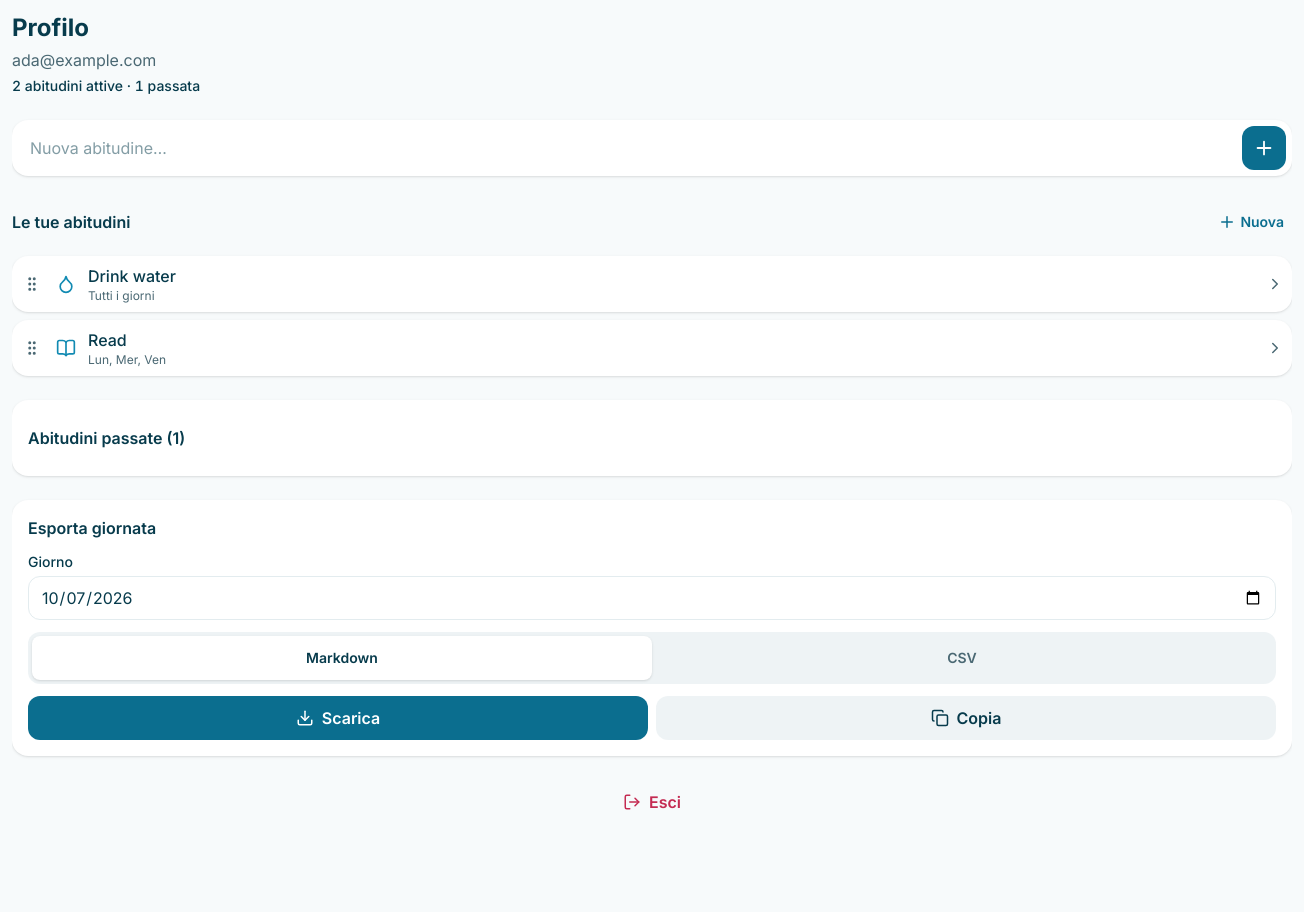
Test case: ProfilePage › inserimento rapido con valori di default
Type "  Journal " into the field labelled "Nuova abitudine".
click(626, 148); type("  Journal ")  # box [18, 126, 1234, 170]
Then press Enter
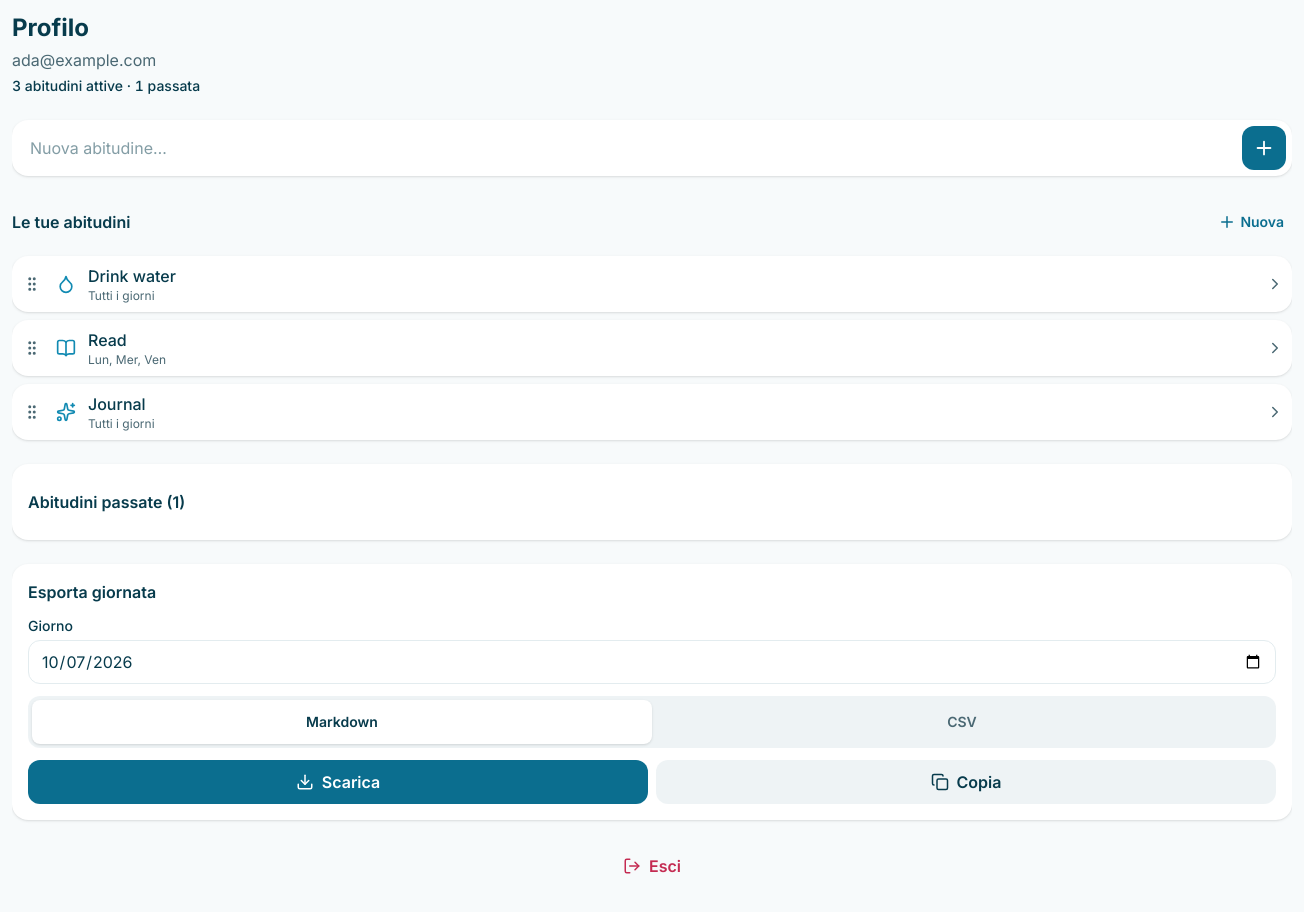
Now the text "3 abitudini attive · 1 passata" is shown, box [12, 77, 200, 94]
